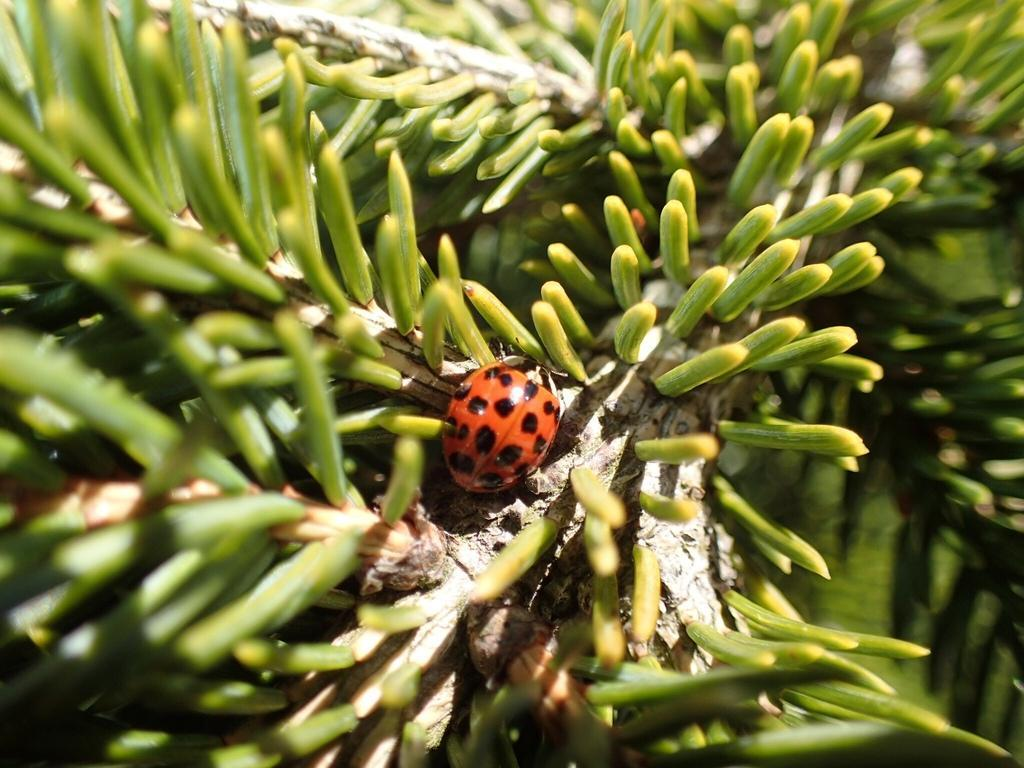ladybug: (435, 349, 571, 505)
